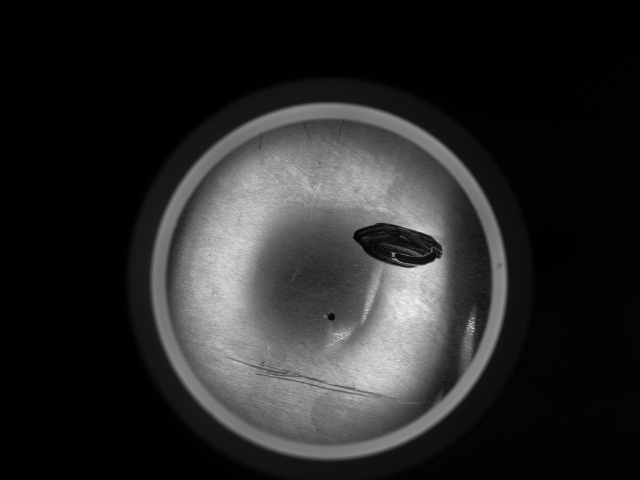ca_shang: (223, 353, 423, 407)
zang_wu: (351, 222, 444, 270)
zhen_kong: (323, 309, 339, 324)
